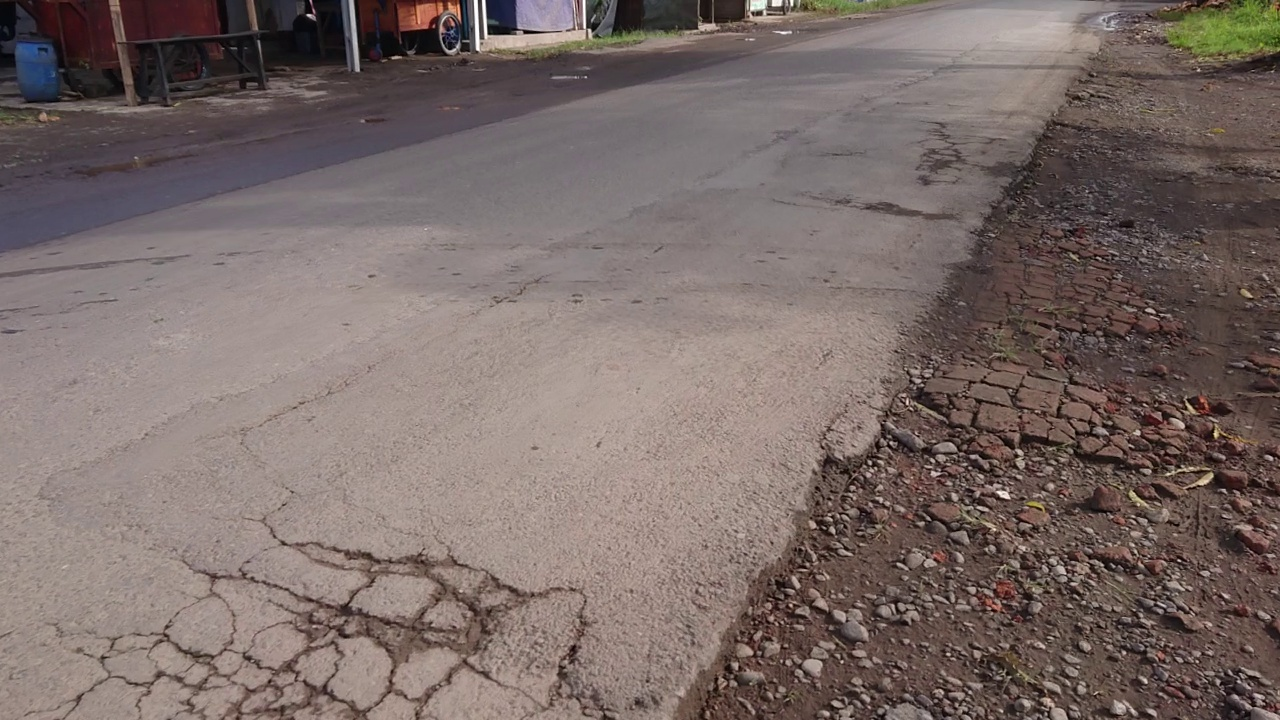Retak: (103, 544, 507, 720), (884, 110, 981, 186)
